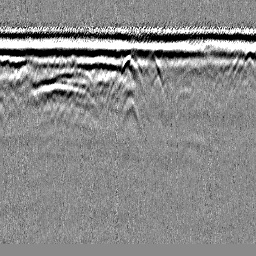cavity: (118, 53, 142, 88)
